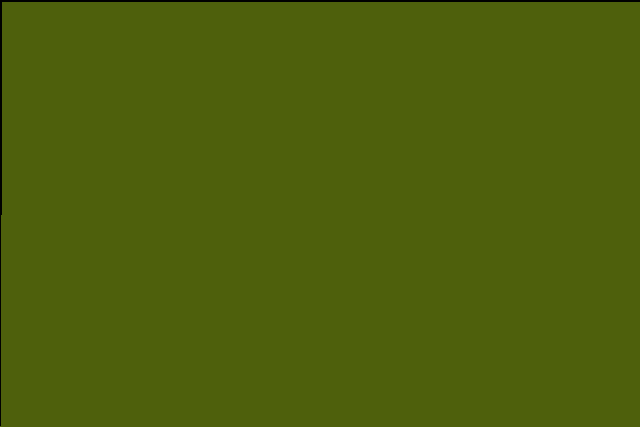Train: (0, 1, 640, 427)
